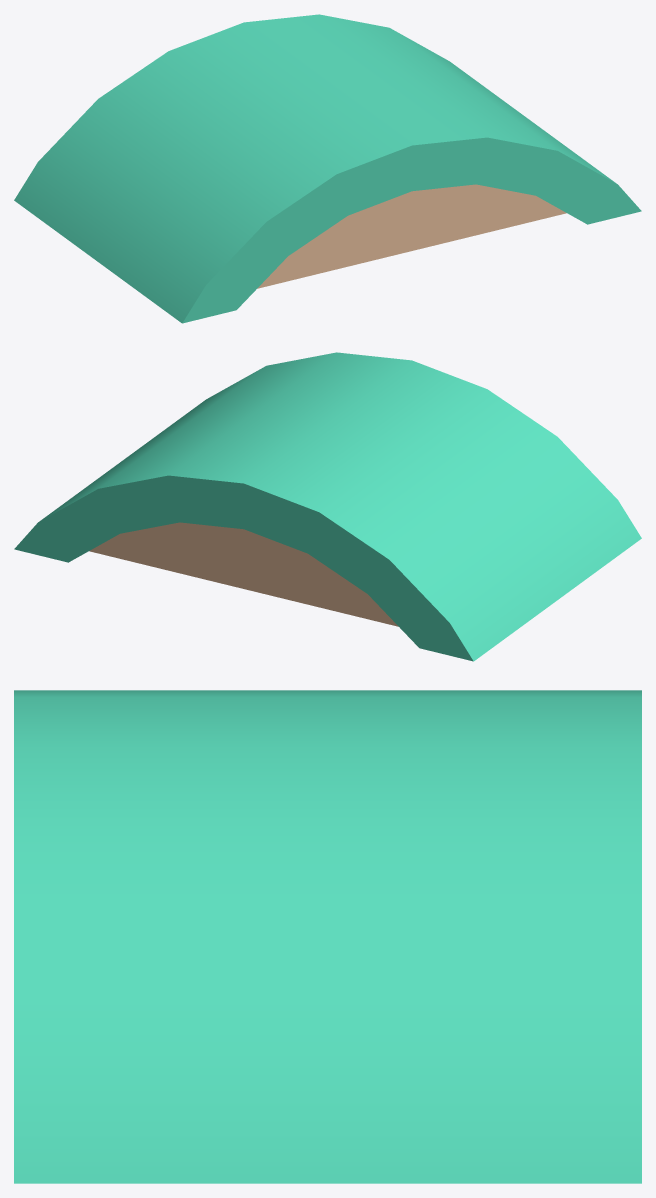
File: blockCurveLow.glb
3 views of the same model, one above another, from view 1: azimuth 30°, elevation 25°; view 2: azimuth 150°, elevation 25°; view 3: azimuth 270°, elevation 25° (orthographic). The views are drawn at different scales.
Parts seen in each view (by area): view 1: blockCurveLow; view 2: blockCurveLow; view 3: blockCurveLow.
Part boxes in pixels (x1,y1,x2,y2): blockCurveLow: (14,14,641,323); blockCurveLow: (14,352,641,661); blockCurveLow: (14,690,641,1183).
Size of the model in its own units: 1.58 by 0.4 by 1.
